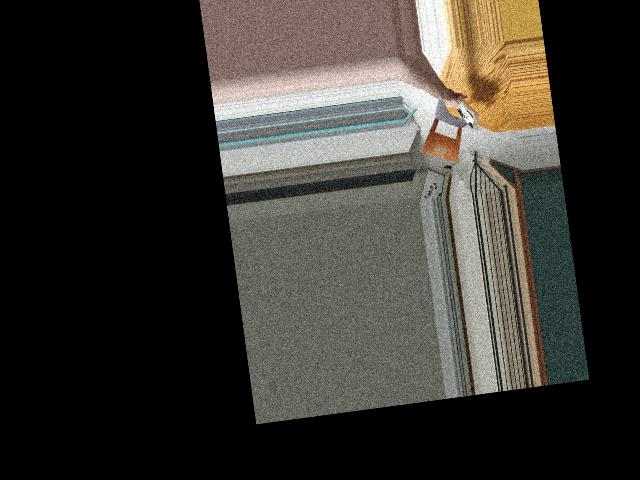cheese: (452, 93, 480, 130)
